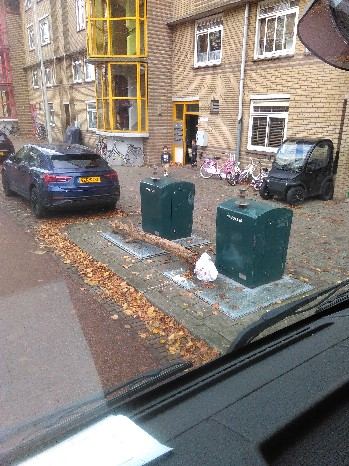Container: (242, 198, 292, 296), (140, 175, 199, 222)
GFT: (112, 224, 212, 279)
Voertuig: (34, 139, 112, 227), (278, 127, 349, 201)
